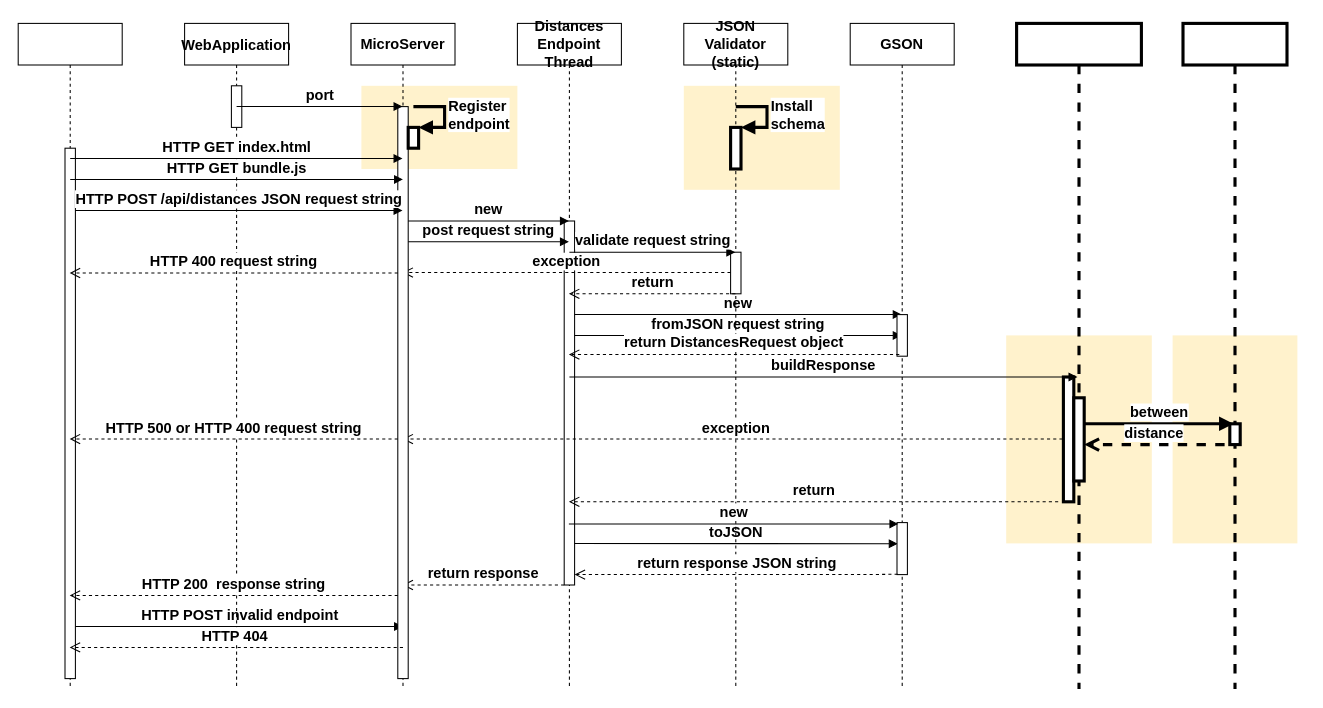
This 1323x708 diagram has some shape labels left out. The shapes that lost their labels are listed below. From the top down, each one's box as (x1, y1, x2, y2) in pixels, then its label:
(17, 22, 122, 689): browser
(1015, 21, 1142, 690): :DistancesRequest
(1181, 21, 1288, 690): GreatCircleDistance (static)
